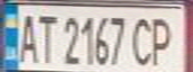1: (78, 11, 96, 65)
2: (60, 10, 81, 65)
6: (93, 11, 112, 66)
7: (106, 12, 130, 66)
A: (12, 9, 42, 64)
C: (127, 12, 157, 68)
P: (145, 12, 181, 68)
T: (33, 10, 57, 65)
